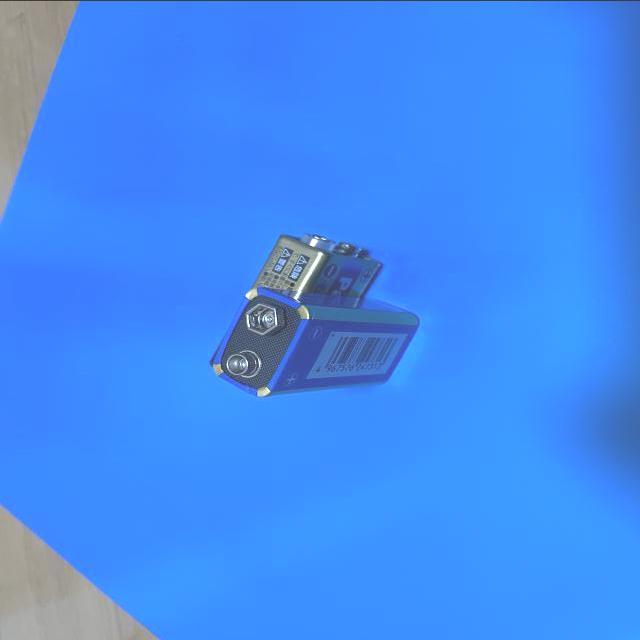9V: (206, 284, 419, 398), (250, 232, 384, 296)
